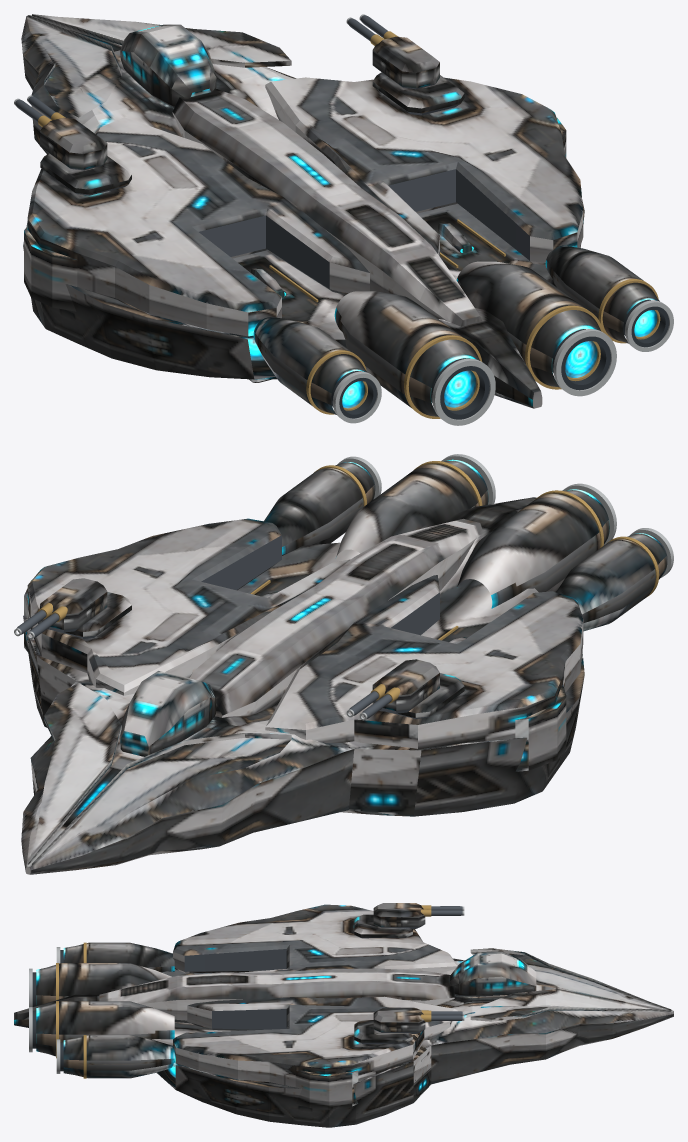
The model's file is cruiser.glb.
3 views of the same model, one above another, from view 1: azimuth 30°, elevation 25°; view 2: azimuth 150°, elevation 25°; view 3: azimuth 270°, elevation 25° (orthographic). The views are drawn at different scales.
Visible parts, largest first — view 1: 04 | port shoulder armor around recessed bay, 04 | starboard shoulder armor around recessed bay, 01 | continuous armored hull with mapped belly, 02 | central dorsal service spine, engine.port.inner | armored nacelle, engine.starboard.inner | armored nacelle, 07 | raised command bridge, engine.port.outer | armored nacelle, engine.starboard.outer | armored nacelle, 03 | port raised prow armor, 03 | starboard raised prow armor, 05 | port outer shoulder collar (+18 smaller); view 2: 01 | continuous armored hull with mapped belly, 04 | port shoulder armor around recessed bay, 04 | starboard shoulder armor around recessed bay, 02 | central dorsal service spine, engine.port.inner | armored nacelle, 03 | port raised prow armor, engine.starboard.inner | armored nacelle, 03 | starboard raised prow armor, engine.port.outer | armored nacelle, engine.starboard.outer | armored nacelle, 07 | raised command bridge, 05 | port outer shoulder collar (+5 smaller); view 3: 01 | continuous armored hull with mapped belly, 04 | starboard shoulder armor around recessed bay, 04 | port shoulder armor around recessed bay, 02 | central dorsal service spine, engine.starboard.inner | armored nacelle, engine.starboard.outer | armored nacelle, engine.port.inner | armored nacelle, 07 | raised command bridge, 03 | starboard raised prow armor, engine.port.outer | armored nacelle, 03 | port raised prow armor, 05 | starboard outer shoulder collar (+4 smaller).
Part boxes in pixels (x1=…): 04 | port shoulder armor around recessed bay: x1=27, y1=117, x2=369, y2=337; 04 | starboard shoulder armor around recessed bay: x1=265, y1=77, x2=583, y2=265; 01 | continuous armored hull with mapped belly: x1=21, y1=15, x2=584, y2=408; 02 | central dorsal service spine: x1=172, y1=88, x2=482, y2=326; engine.port.inner | armored nacelle: x1=334, y1=291, x2=479, y2=416; engine.starboard.inner | armored nacelle: x1=456, y1=261, x2=601, y2=387; 07 | raised command bridge: x1=120, y1=24, x2=216, y2=107; engine.port.outer | armored nacelle: x1=253, y1=317, x2=367, y2=414; engine.starboard.outer | armored nacelle: x1=545, y1=245, x2=659, y2=343; 03 | port raised prow armor: x1=28, y1=15, x2=121, y2=117; 03 | starboard raised prow armor: x1=32, y1=14, x2=291, y2=67; 05 | port outer shoulder collar: x1=24, y1=226, x2=77, y2=311; 01 | continuous armored hull with mapped belly: x1=21, y1=497, x2=584, y2=874; 04 | port shoulder armor around recessed bay: x1=265, y1=575, x2=583, y2=748; 04 | starboard shoulder armor around recessed bay: x1=27, y1=518, x2=350, y2=695; 02 | central dorsal service spine: x1=189, y1=518, x2=482, y2=717; engine.port.inner | armored nacelle: x1=457, y1=489, x2=609, y2=608; 03 | port raised prow armor: x1=32, y1=733, x2=291, y2=865; engine.starboard.inner | armored nacelle: x1=336, y1=459, x2=488, y2=556; 03 | starboard raised prow armor: x1=28, y1=683, x2=121, y2=864; engine.port.outer | armored nacelle: x1=556, y1=533, x2=667, y2=631; engine.starboard.outer | armored nacelle: x1=264, y1=462, x2=375, y2=555; 07 | raised command bridge: x1=120, y1=671, x2=216, y2=756; 05 | port outer shoulder collar: x1=515, y1=685, x2=566, y2=771; 01 | continuous armored hull with mapped belly: x1=14, y1=958, x2=673, y2=1127; 04 | starboard shoulder armor around recessed bay: x1=173, y1=996, x2=457, y2=1086; 04 | port shoulder armor around recessed bay: x1=173, y1=904, x2=457, y2=973; 02 | central dorsal service spine: x1=99, y1=968, x2=454, y2=1023; engine.starboard.inner | armored nacelle: x1=36, y1=1001, x2=174, y2=1056; engine.starboard.outer | armored nacelle: x1=63, y1=1035, x2=174, y2=1078; engine.port.inner | armored nacelle: x1=36, y1=963, x2=171, y2=1005; 07 | raised command bridge: x1=450, y1=951, x2=536, y2=996; 03 | starboard raised prow armor: x1=470, y1=989, x2=671, y2=1021; engine.port.outer | armored nacelle: x1=63, y1=942, x2=174, y2=972; 03 | port raised prow armor: x1=470, y1=948, x2=671, y2=1010; 05 | starboard outer shoulder collar: x1=295, y1=1070, x2=358, y2=1109.
Size of the model in its own units: 11.07 by 3.07 by 18.57.
7 materials, 2 textured.
